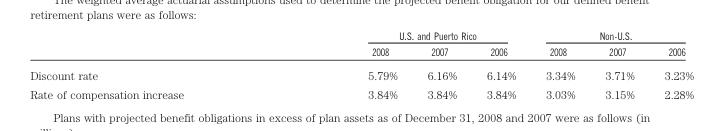table: (29, 28, 694, 100)
table column: (29, 28, 275, 100), (275, 28, 412, 100), (530, 28, 590, 100), (412, 28, 471, 100), (471, 28, 530, 100), (590, 28, 649, 100), (649, 28, 694, 100)
table column header: (29, 28, 694, 62)
table row: (29, 62, 694, 84), (29, 43, 694, 62), (29, 84, 694, 100), (29, 28, 694, 43)
table spanning cell: (275, 28, 530, 43), (530, 28, 694, 43)
